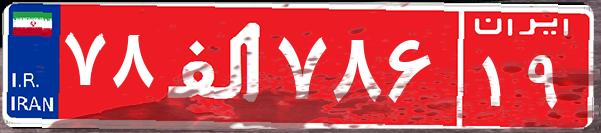1: (475, 38, 525, 113)
6: (385, 28, 445, 110)
7: (273, 28, 330, 110), (57, 26, 110, 107)
8: (330, 28, 385, 110), (110, 28, 158, 105)
9: (525, 38, 570, 115)
الف: (158, 15, 273, 115)
